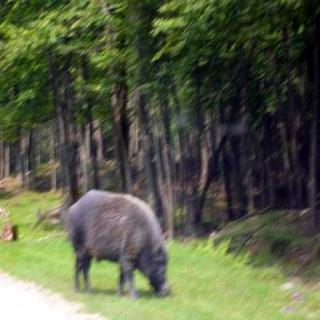Pig: (62, 190, 174, 300)
